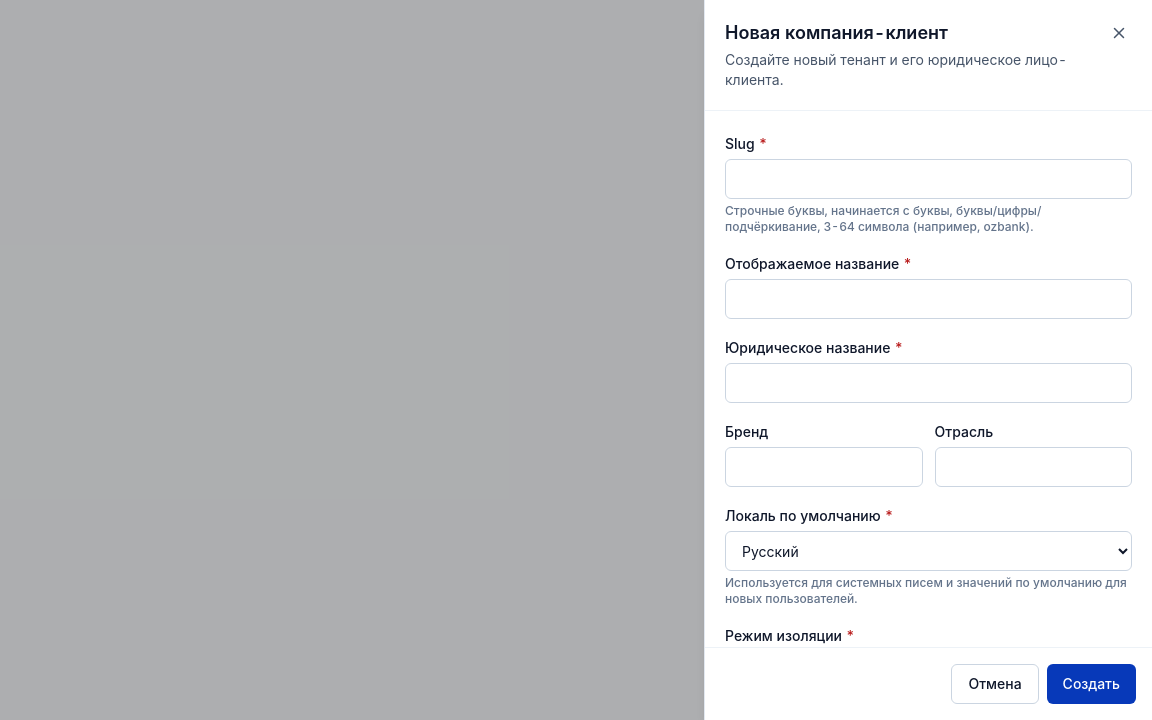
Test case: <CreateTenantDialog /> › maps a 409 TENANT_SLUG_TAKEN to a friendly field-level slug error
Type "acme" into the field with test id "create-tenant-slug" at (928, 179), box [725,159,1132,199]
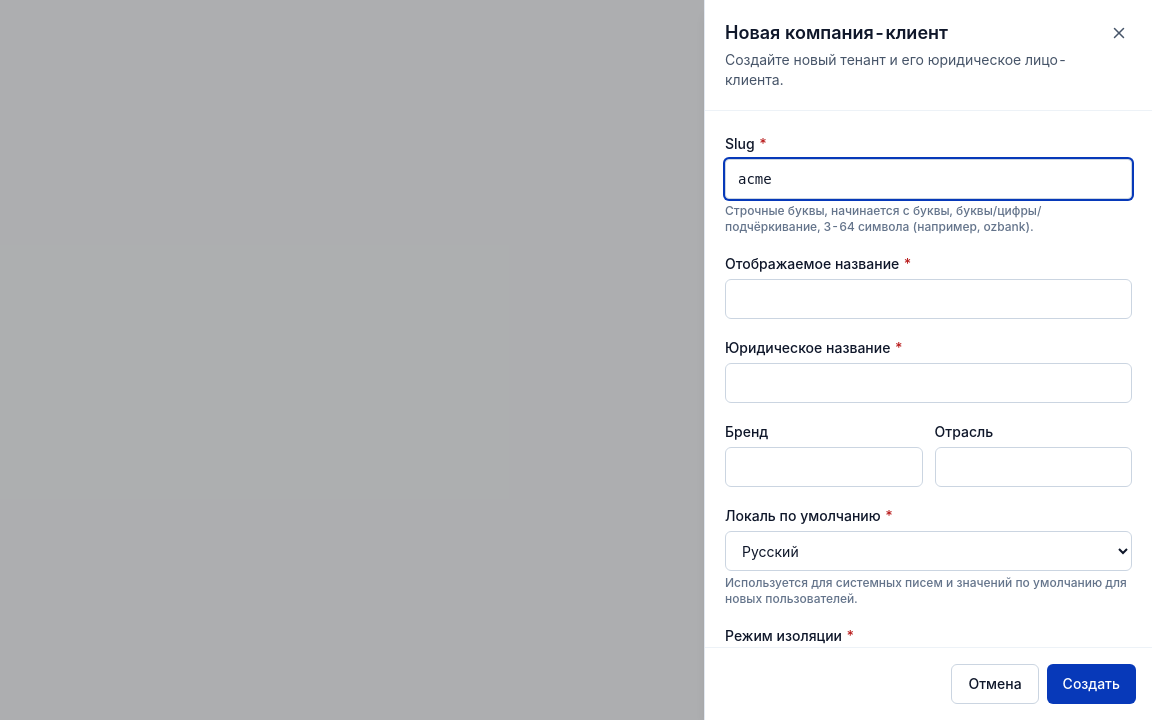
Type "ACME Two" into the field with test id "create-tenant-display-name" at (928, 299), box [725,279,1132,319]
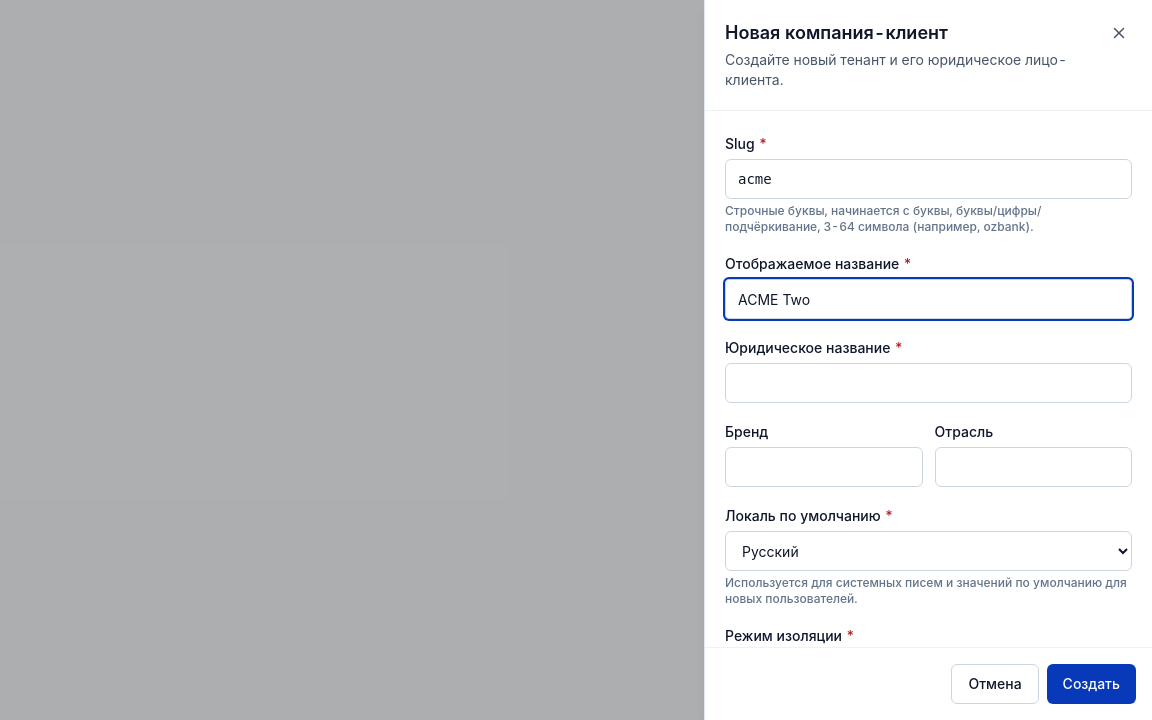
Type "ACME Two LLC" into the field with test id "create-tenant-legal-name" at (928, 383), box [725,363,1132,403]
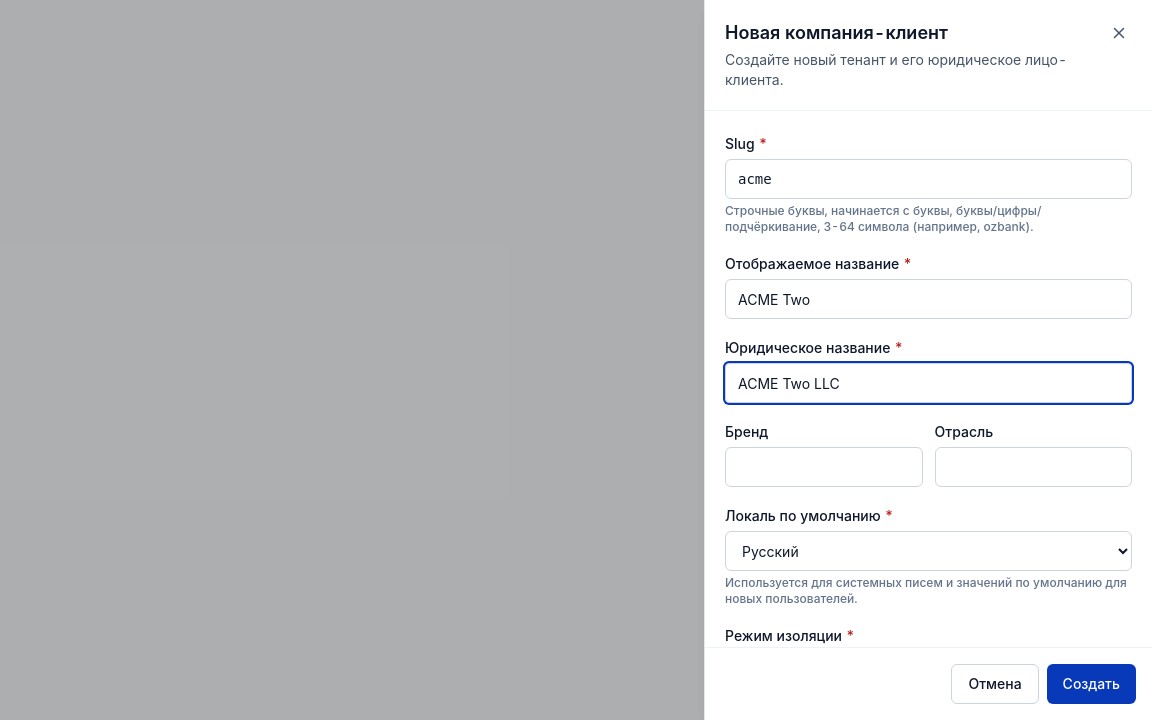
Click the button "Создать" at (1091, 684), box [1047,664,1136,704]
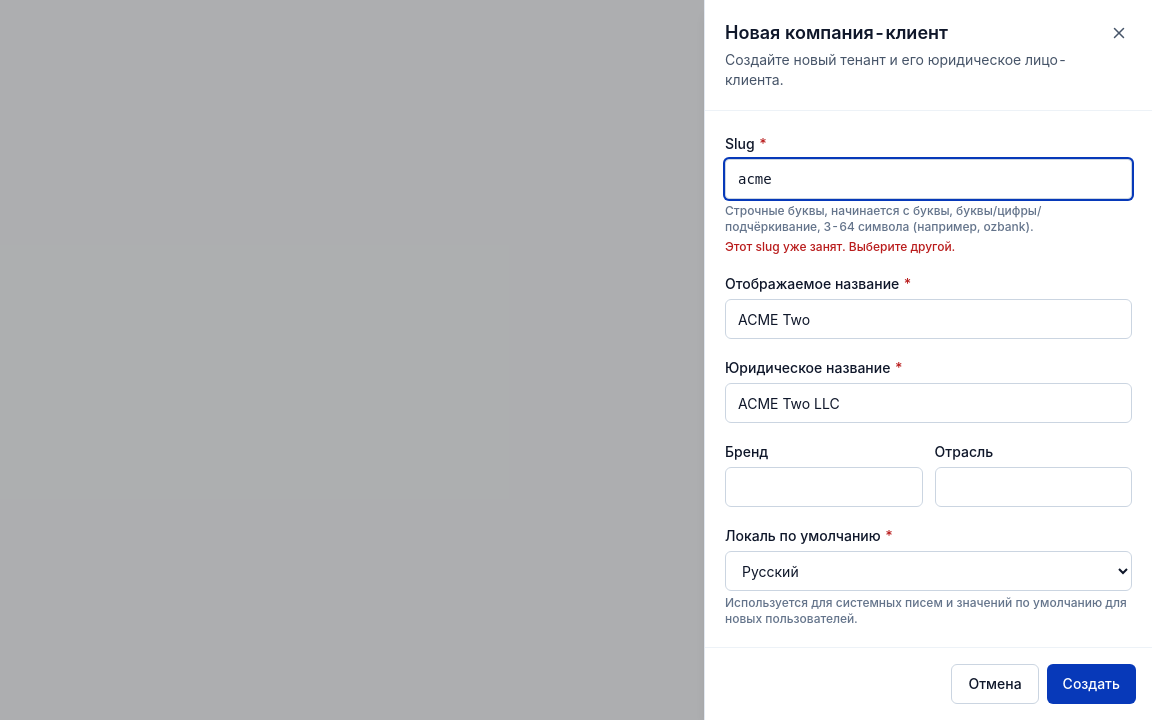
Expected: the text "Этот slug уже занят. Выберите другой." is shown, [725,239,955,254]
